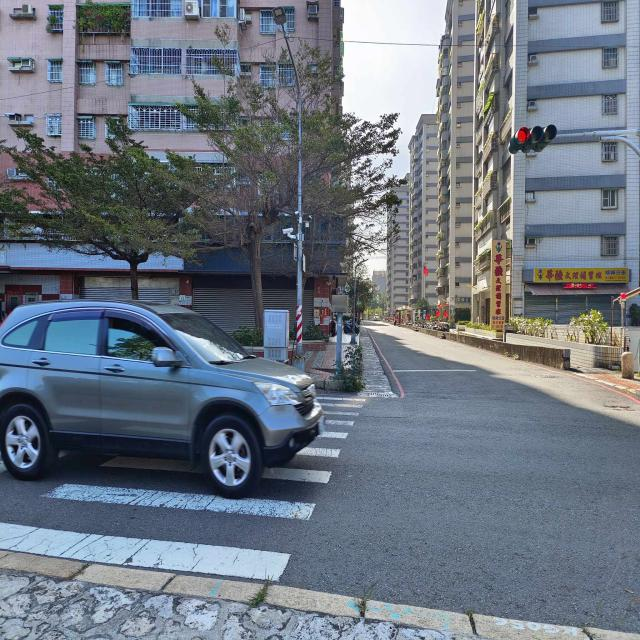zebra crossing: (0, 391, 363, 576)
